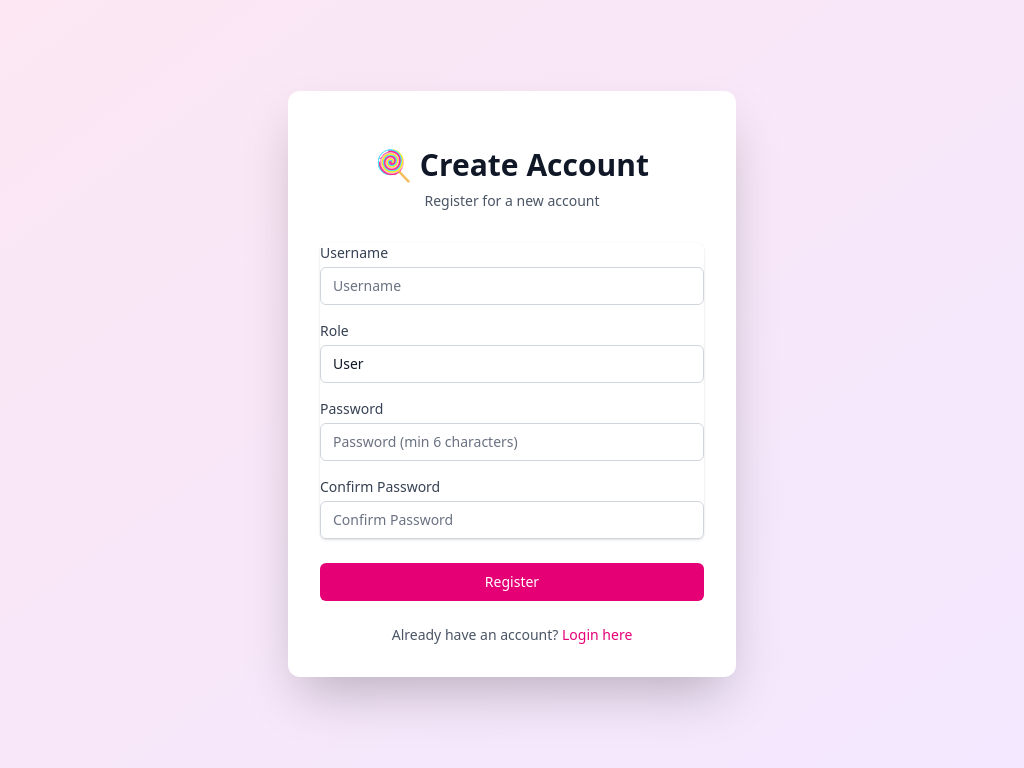
Register Page › should show error if password is too short
Type "testuser" into the field labelled "Username".
click(512, 286); type("testuser")  # box top-left (320, 267), bottom-right (704, 305)
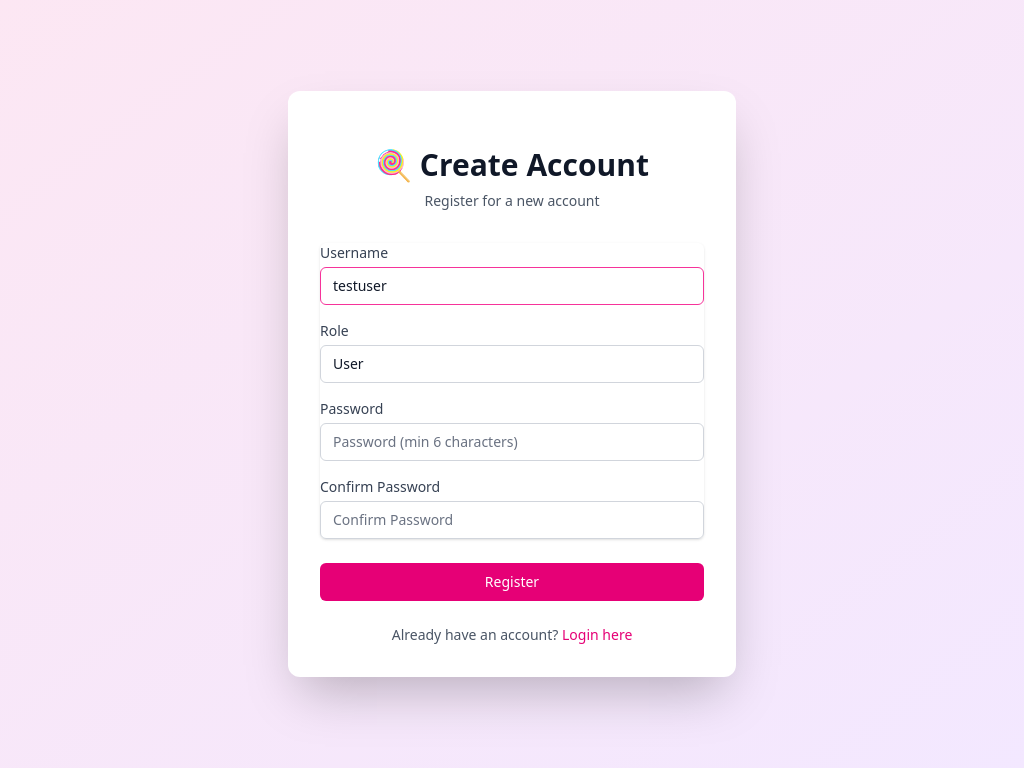
Type "12345" into the password field with placeholder "Password (min 6 characters)".
click(512, 442); type("12345")  # box top-left (320, 423), bottom-right (704, 461)
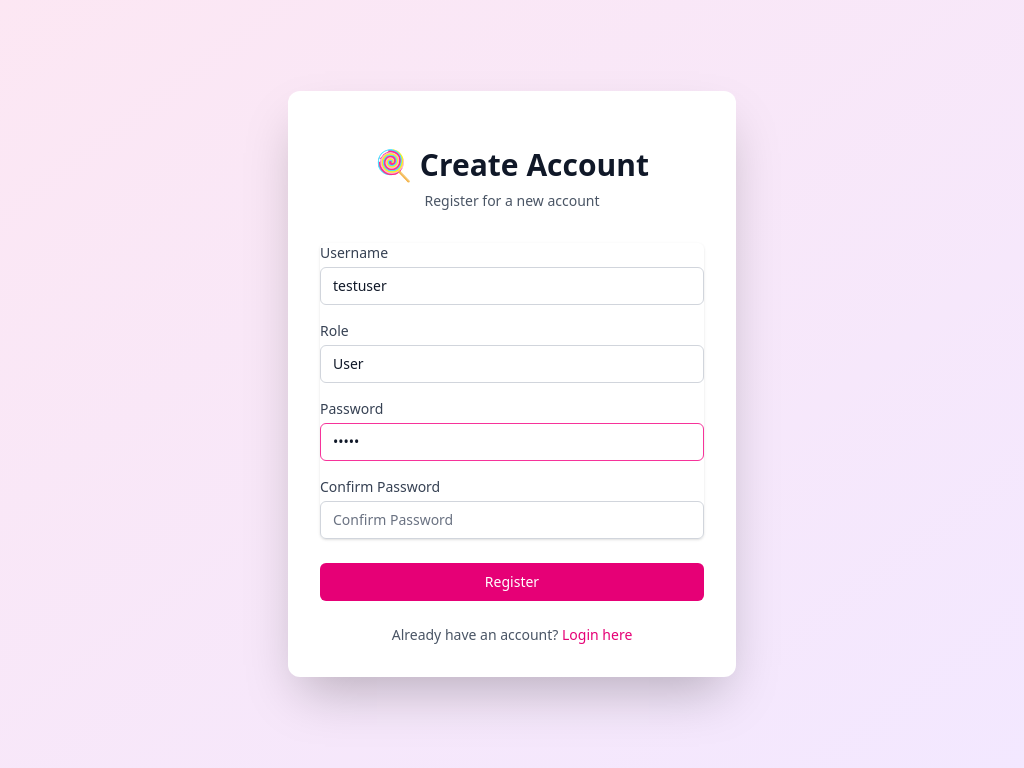
Type "12345" into the password field with placeholder "Confirm Password".
click(512, 520); type("12345")  # box top-left (320, 501), bottom-right (704, 539)
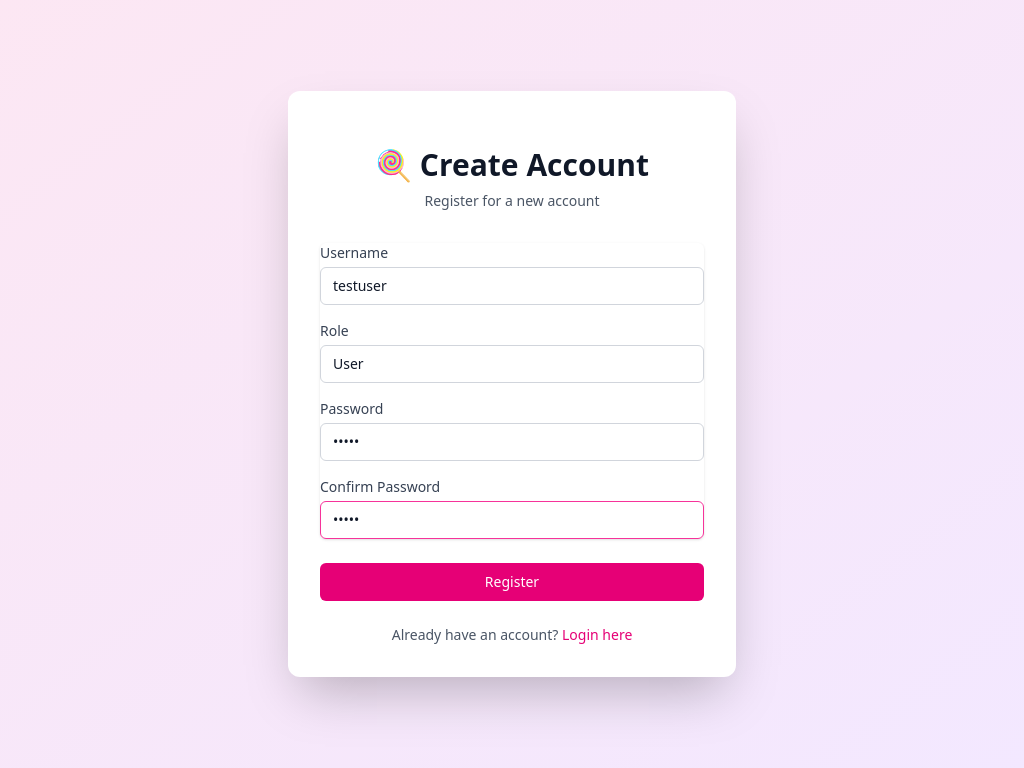
Click the button "Register".
click(512, 582)  # box top-left (320, 563), bottom-right (704, 601)
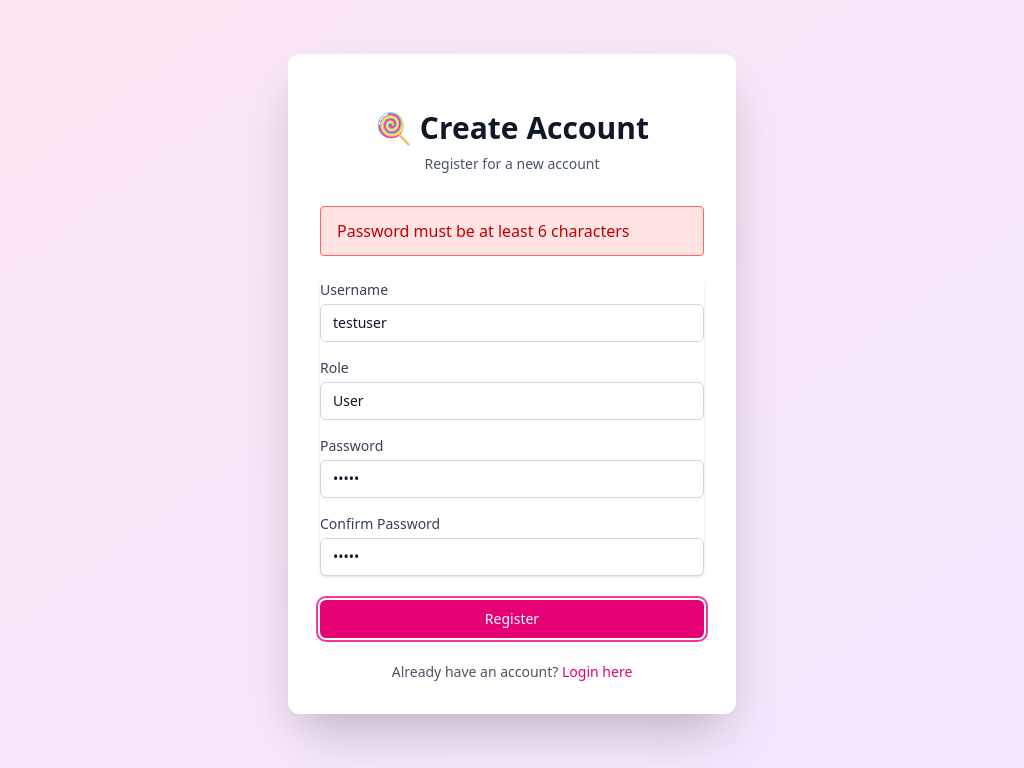
Expected: the text "Password must be at least 6 characters" is shown, top-left (320, 206), bottom-right (704, 256)
